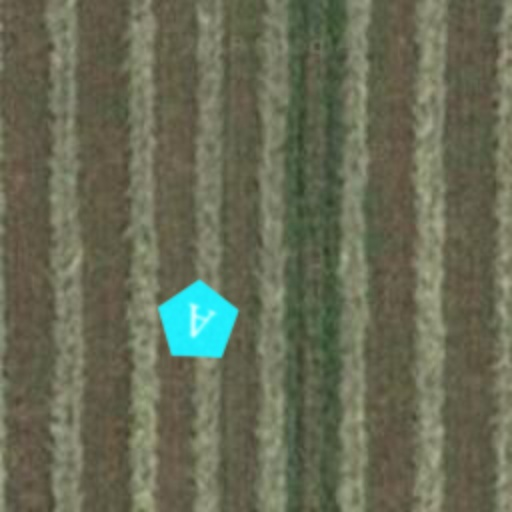pentagon: (142, 266, 254, 378)
